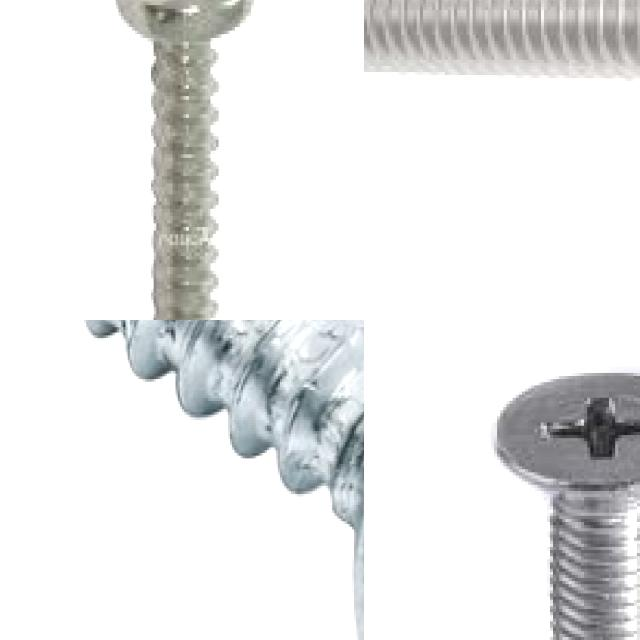Screw: (83, 320, 364, 640), (115, 0, 254, 320), (494, 373, 640, 640), (364, 0, 640, 85)
